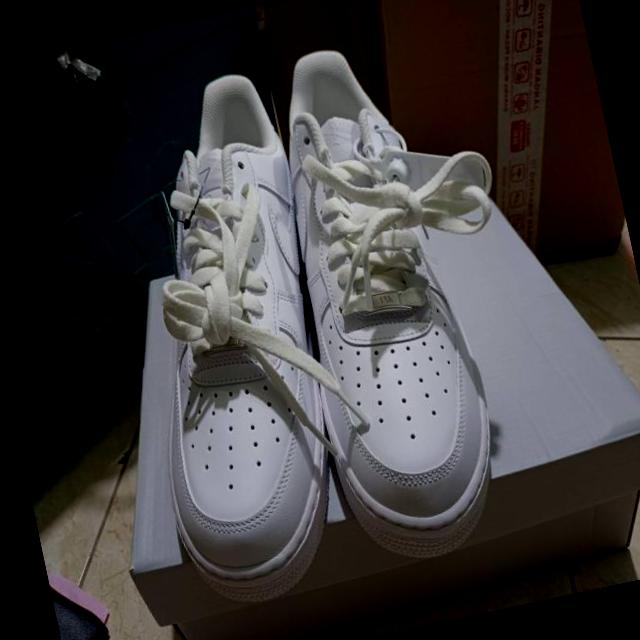nike_original_airforce: (84, 64, 376, 616), (246, 26, 522, 572)
